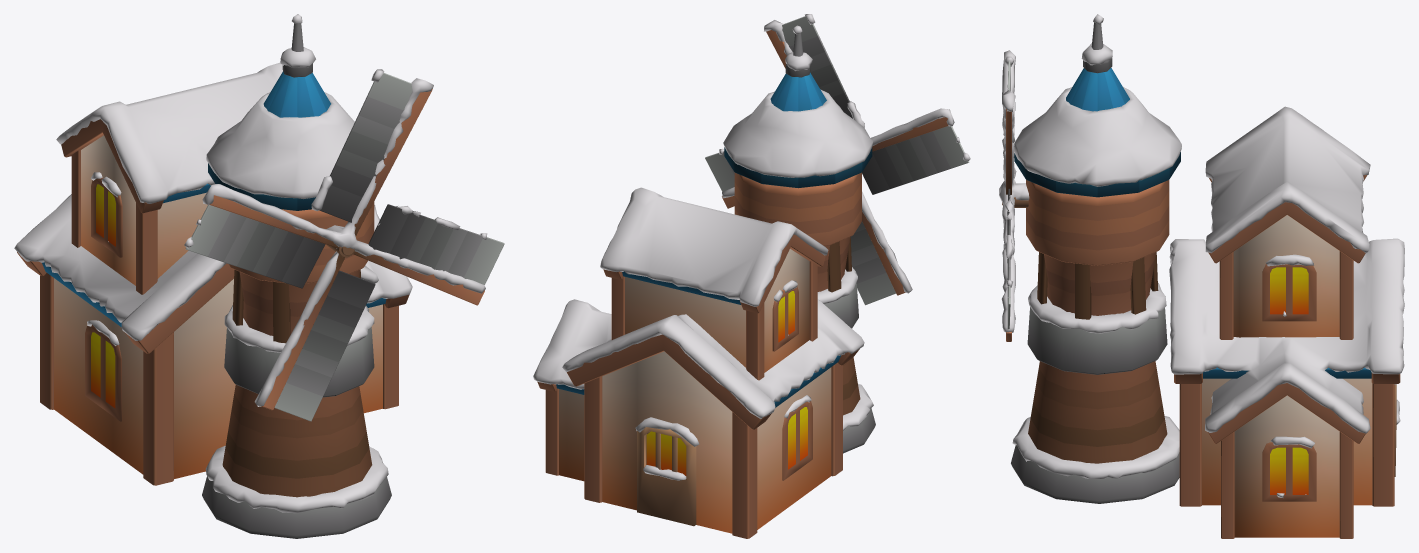
File: WindmilllHouseSnowy_2.fbx
The picture shows the model from 3 angles, left to right: view 1: azimuth 30°, elevation 25°; view 2: azimuth 150°, elevation 25°; view 3: azimuth 270°, elevation 25°; orthographic projection. The views are drawn at different scales.
Parts seen in each view (by area): view 1: WindmilllHouseSnowy_2; view 2: WindmilllHouseSnowy_2; view 3: WindmilllHouseSnowy_2.
Boxes of the visible parts, left/top/right/bottom form: WindmilllHouseSnowy_2: left=14, top=14, right=504, bottom=538; WindmilllHouseSnowy_2: left=533, top=14, right=970, bottom=538; WindmilllHouseSnowy_2: left=999, top=14, right=1404, bottom=538.
Bounding box in the file's own units: 448 × 615 × 501.
